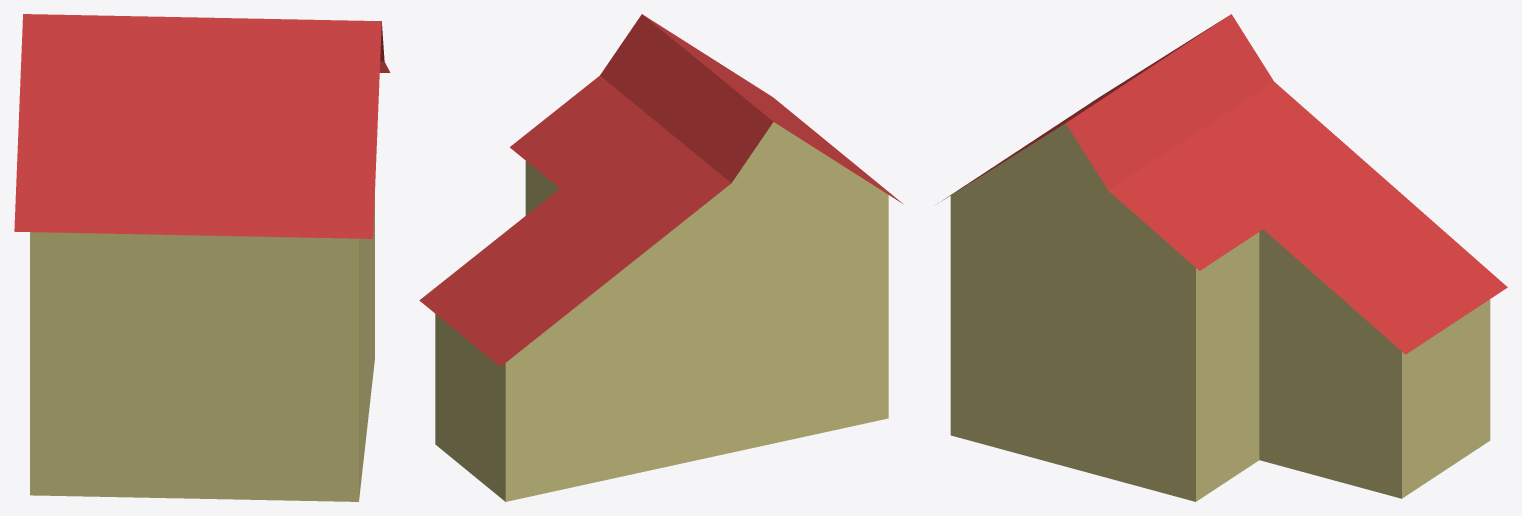
3 views of the same model, side by side, from view 1: azimuth 30°, elevation 25°; view 2: azimuth 150°, elevation 25°; view 3: azimuth 270°, elevation 25° (orthographic). The views are drawn at different scales.
Size of the model in its own units: 16.93 by 22.66 by 15.22.
